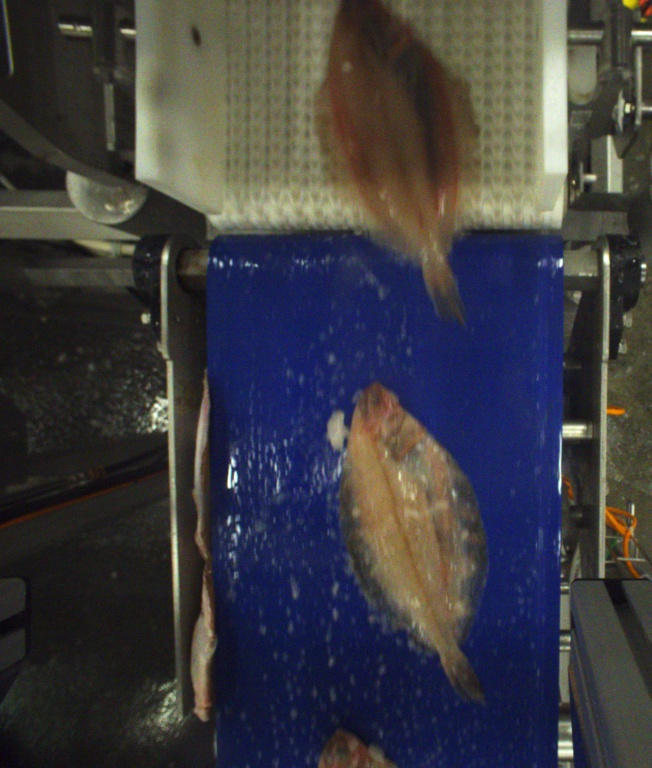WIT: (339, 382, 484, 703)
